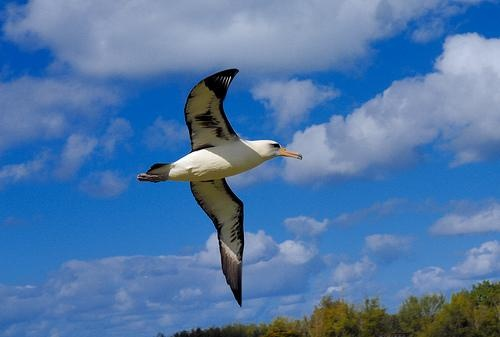bird: (135, 66, 305, 308)
